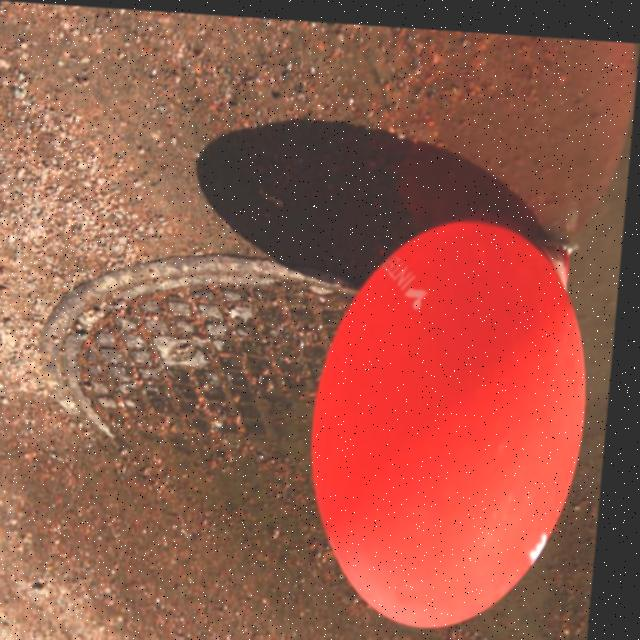balloon: (301, 203, 601, 628)
